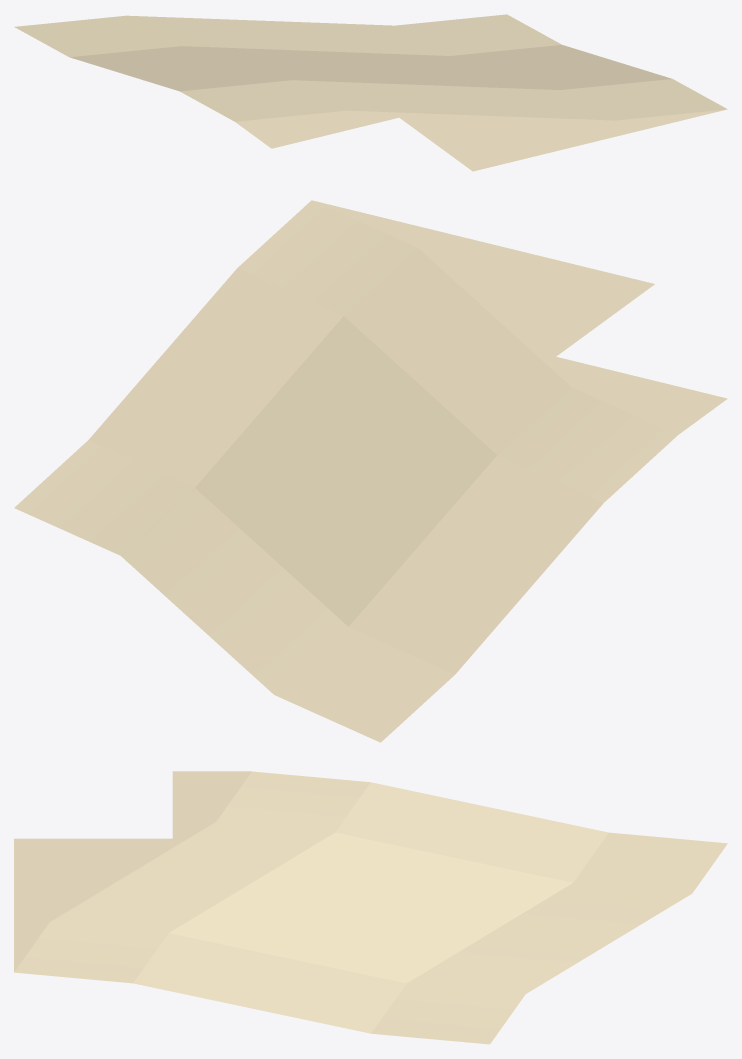
The model's file is Beach_Terrain_Sand_Side_Shift_Sharp.glb.
3 renders of one model, top to bottom at view 1: azimuth 30°, elevation 25°; view 2: azimuth 150°, elevation 25°; view 3: azimuth 270°, elevation 25°, orthographic. The views are drawn at different scales.
Visible parts, largest first — view 1: Beach_Terrain_Sand_Side_Shift_Sharp; view 2: Beach_Terrain_Sand_Side_Shift_Sharp; view 3: Beach_Terrain_Sand_Side_Shift_Sharp.
Boxes of the visible parts, x1,y1,x2,y2 form: Beach_Terrain_Sand_Side_Shift_Sharp: (14, 14, 727, 171); Beach_Terrain_Sand_Side_Shift_Sharp: (14, 200, 727, 742); Beach_Terrain_Sand_Side_Shift_Sharp: (14, 771, 727, 1044).
Bounding box in the file's own units: 3 × 0.5 × 4.5.
